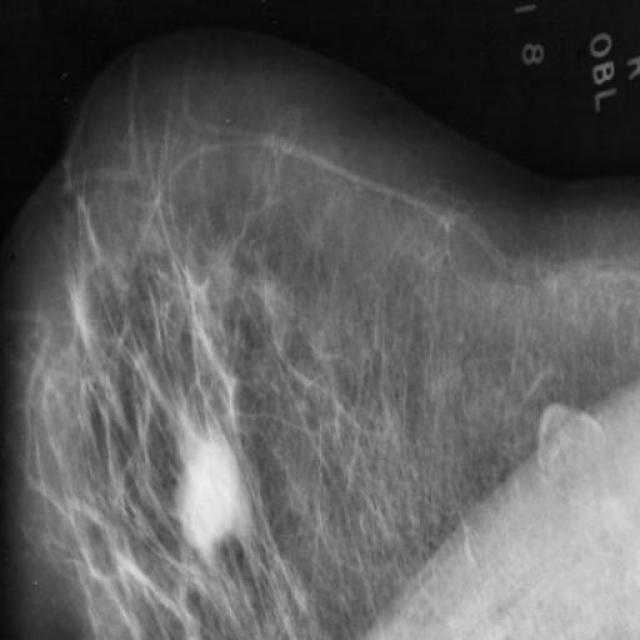cancer: (150, 410, 258, 584)
